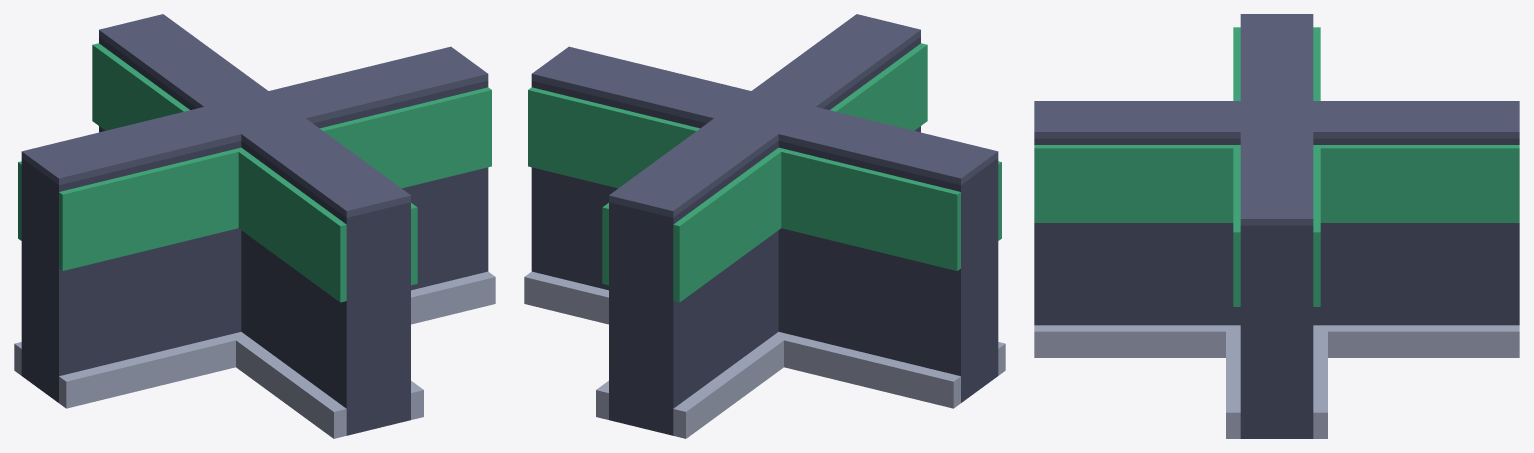
Rendered from partition-low-cross.glb.
3 renders of one model, left to right at view 1: azimuth 30°, elevation 25°; view 2: azimuth 150°, elevation 25°; view 3: azimuth 270°, elevation 25°, orthographic. The views are drawn at different scales.
Parts seen in each view (by area): view 1: partition-low-cross; view 2: partition-low-cross; view 3: partition-low-cross.
Boxes of the visible parts, bbox=[...] form: partition-low-cross: bbox=[14, 14, 495, 438]; partition-low-cross: bbox=[524, 14, 1005, 438]; partition-low-cross: bbox=[1034, 14, 1519, 438].
Size of the model in its own units: 1 by 0.5 by 1.
Materials: 1 (1 with a texture image).
